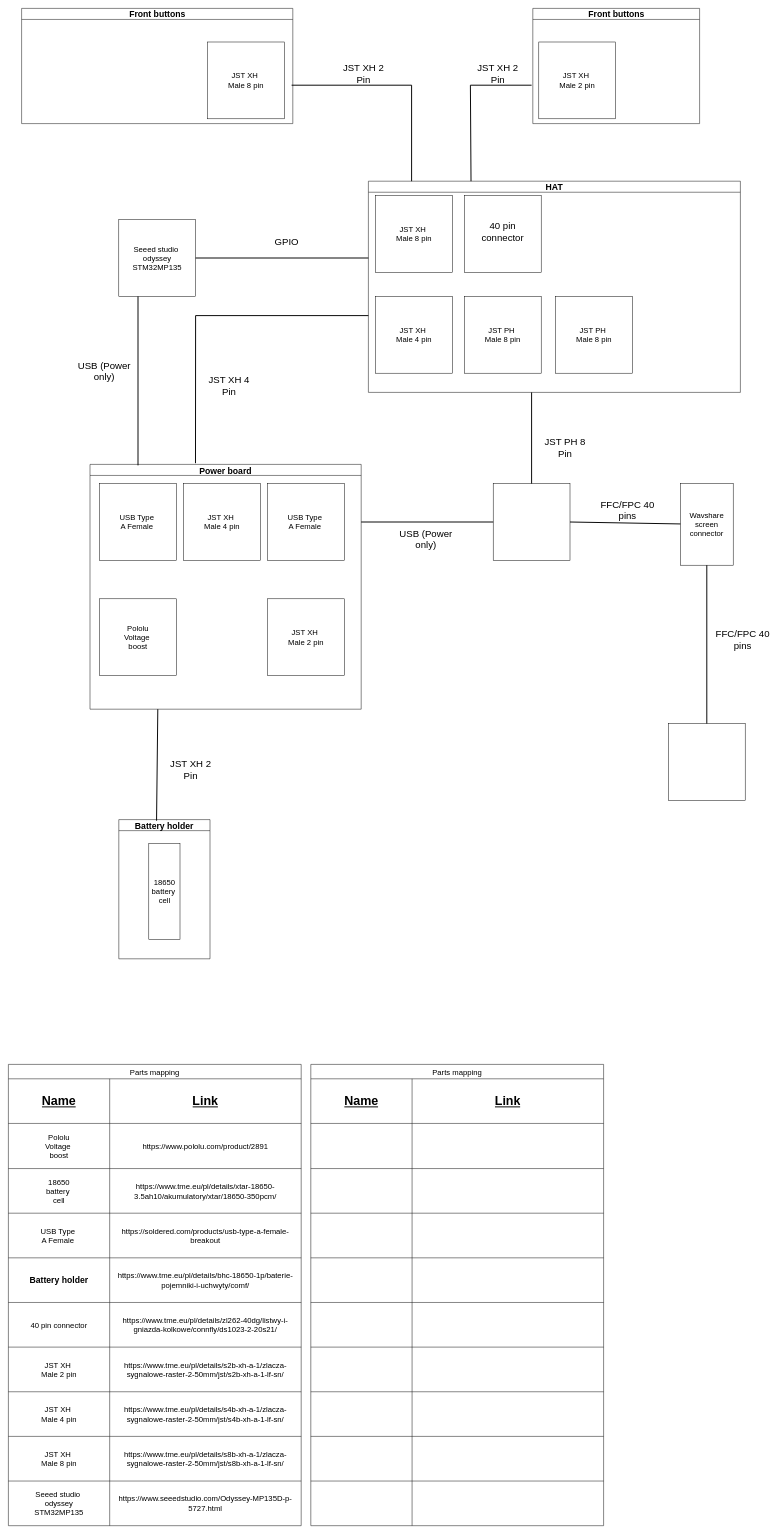
The diagram is 780 pixels wide and 1534 high, and some of its shapes have lost their labels. The centre of each missing label's shape, as x and y in pixels:
Waveshare IT8951 EPD: the point at 531,521
Waveshare screen: the point at 706,761
